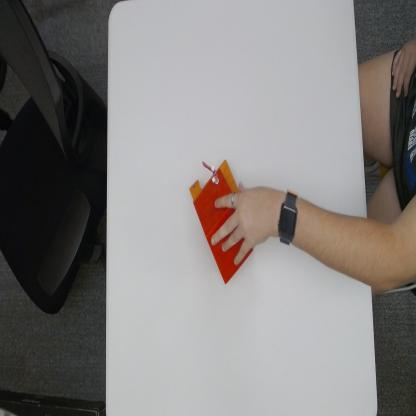Arm: (298, 192, 381, 292)
House: (190, 158, 252, 278)
